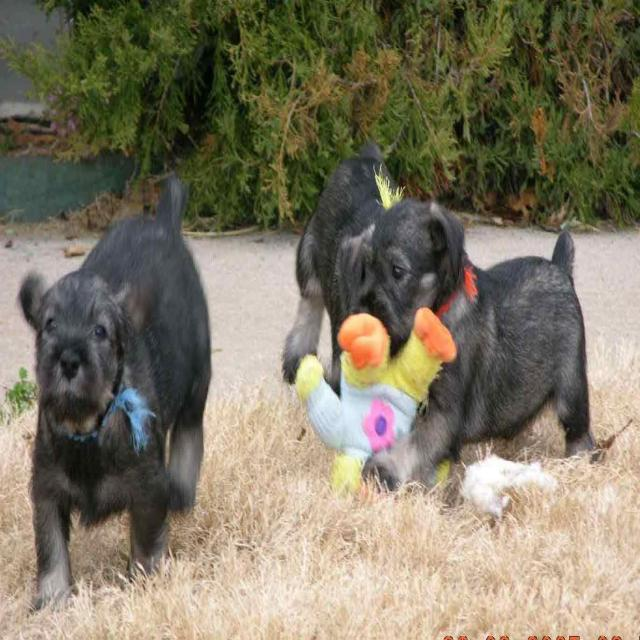standard_schnauzer: (18, 172, 212, 604), (363, 195, 592, 492), (282, 143, 392, 400)
